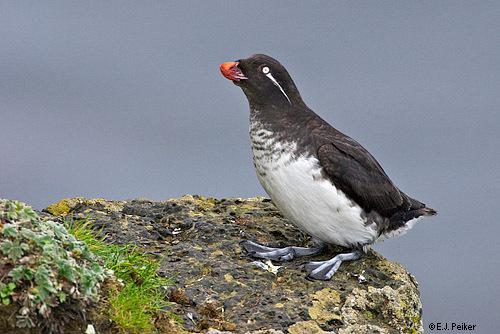007.Parakeet_Auklet: (211, 52, 438, 283)
